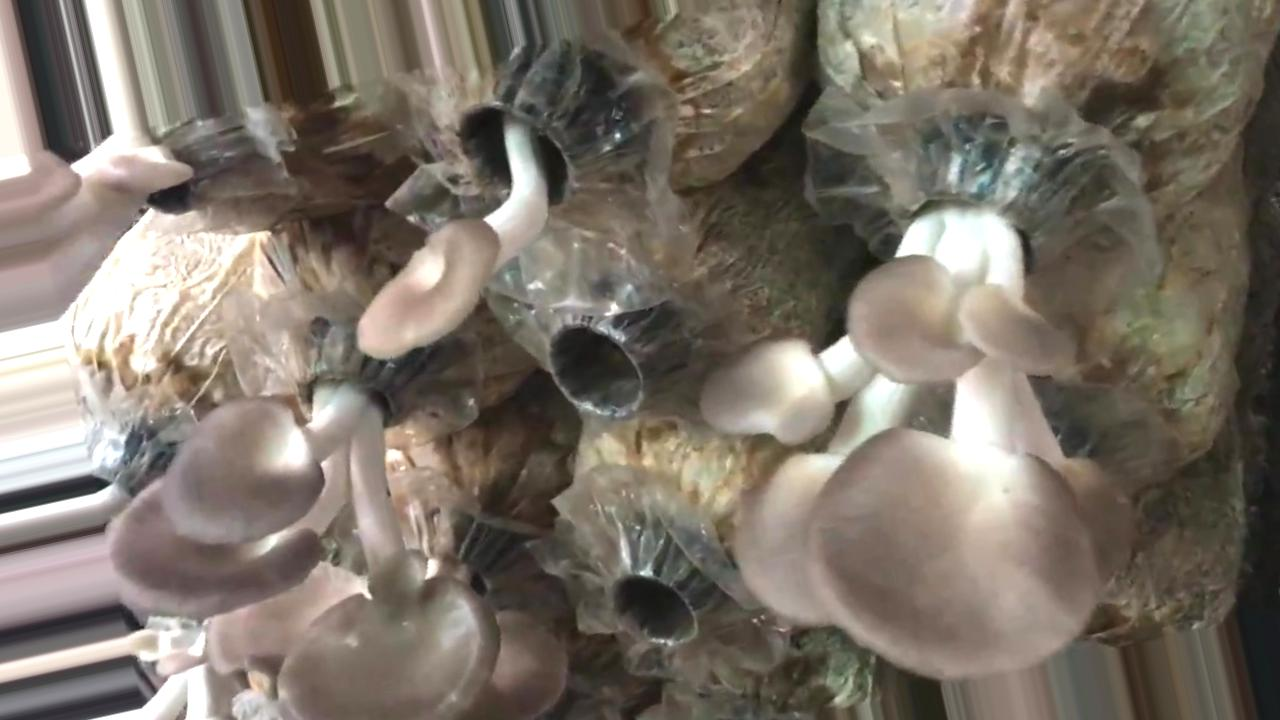nam: (702, 131, 1134, 675), (111, 338, 499, 720), (363, 45, 645, 353), (206, 562, 367, 673), (470, 609, 566, 720)
